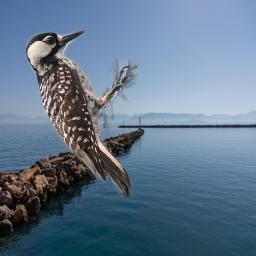Woodpecker: (25, 29, 138, 197)
